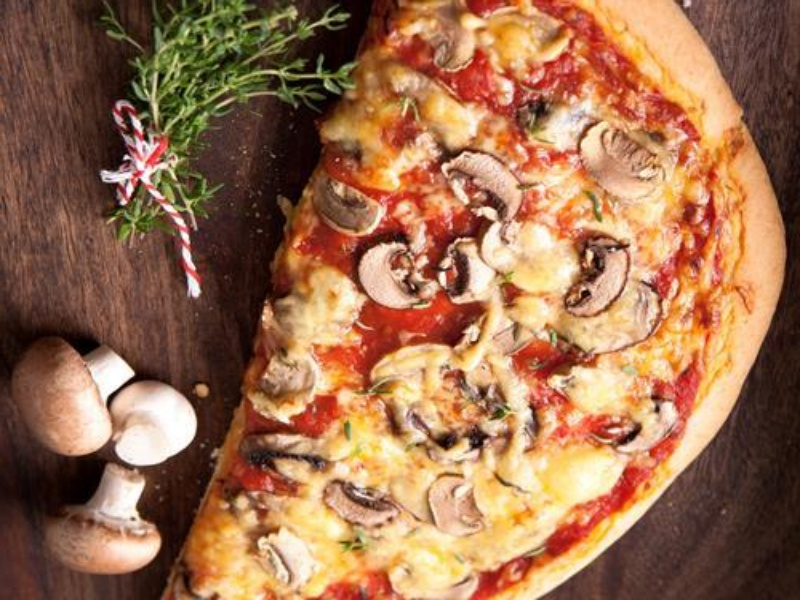champignon: (575, 117, 669, 202), (556, 229, 635, 326), (354, 235, 436, 317)
